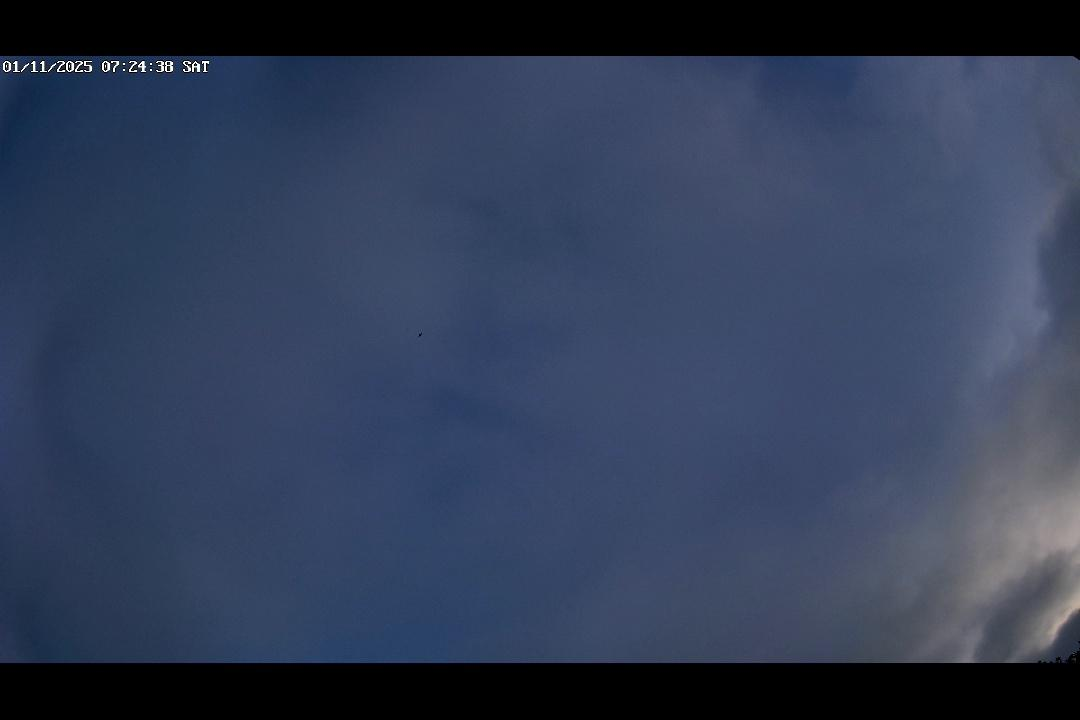WildLife: (407, 329, 432, 343)
